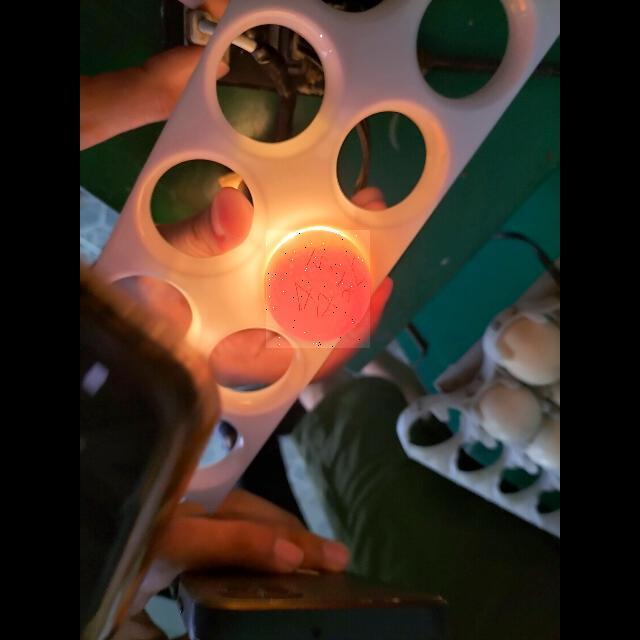Infertile: (266, 230, 370, 348)
